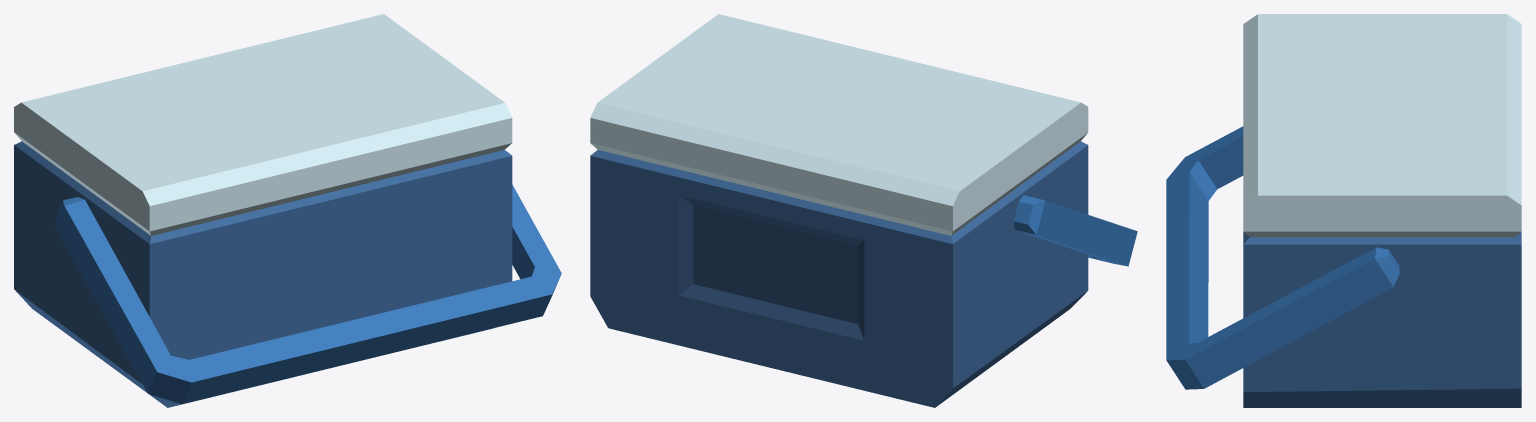
Rendered from Cooler.obj.
The picture shows the model from 3 angles, left to right: view 1: azimuth 30°, elevation 25°; view 2: azimuth 150°, elevation 25°; view 3: azimuth 270°, elevation 25°; orthographic projection. The views are drawn at different scales.
Size of the model in its own units: 0.8837 by 0.45 by 0.6547.
Materials: 1 (1 with a texture image).
